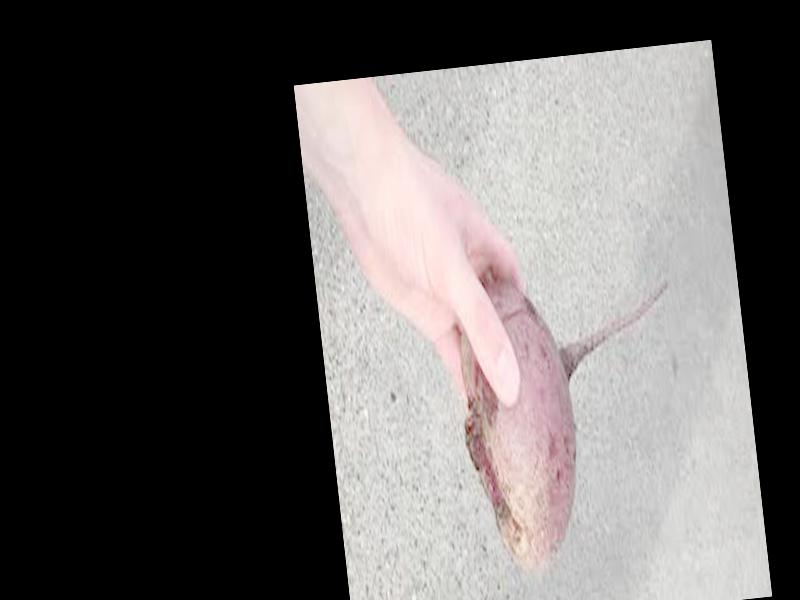Beet: (449, 269, 696, 575)
